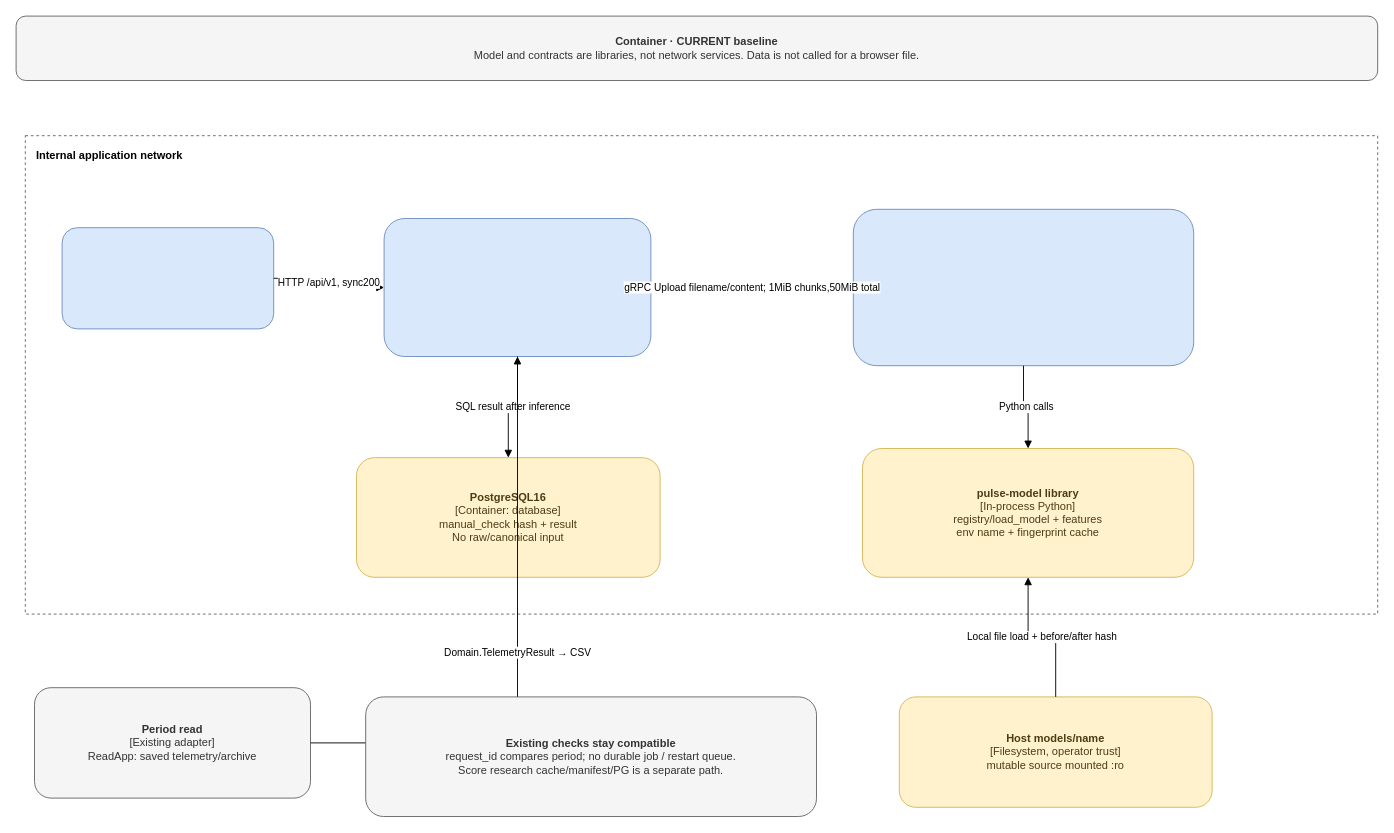
This 1394x833 diagram has some shape labels left out. Each missing label, with the centre of its shape:
Go backend [Container: Gin] service.Checks / ML.Upload telemetryCSV: [517,287]
Python ML [Container: gRPC] server.Upload → engine.ml_upload bundle-only compute: [1023,287]
SPA [Container: React] Browser preview: [167,278]
